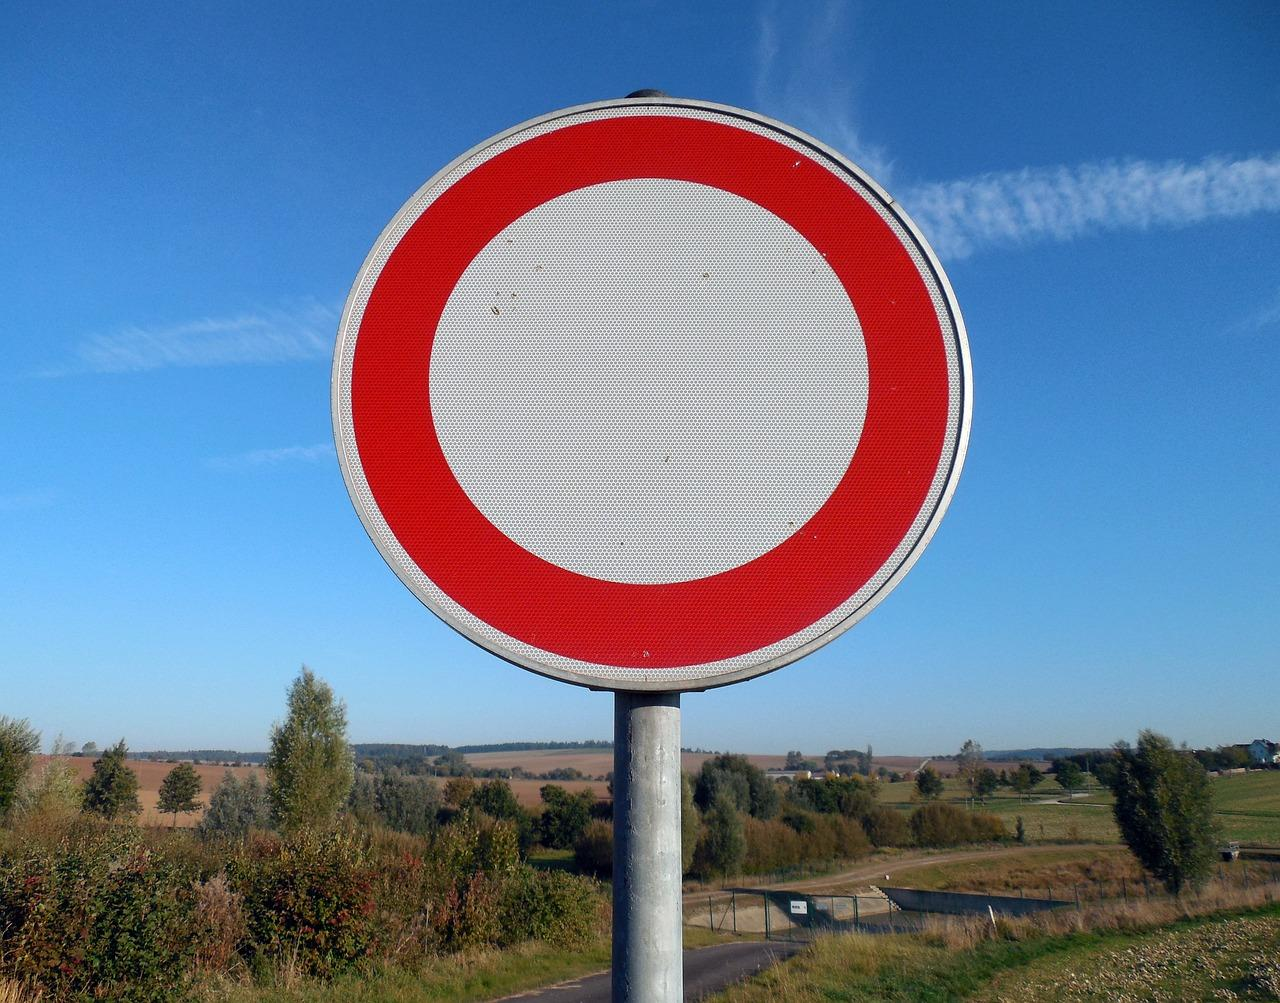traffic sign: (268, 51, 1026, 1002)
